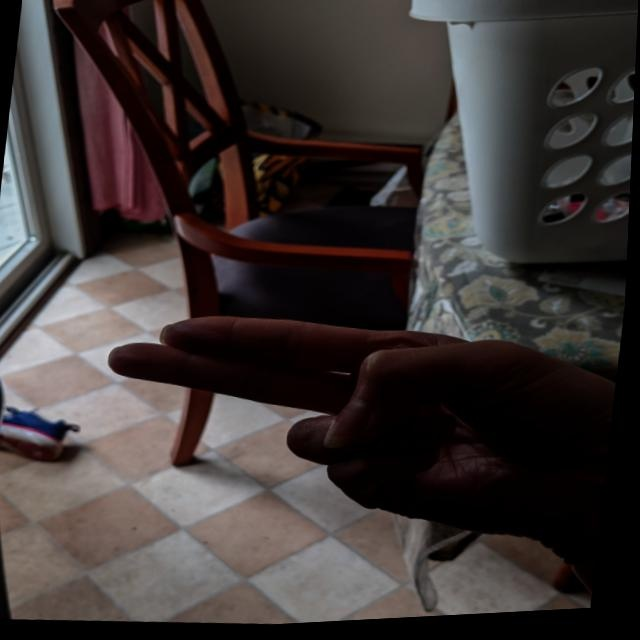H: (82, 283, 627, 578)
